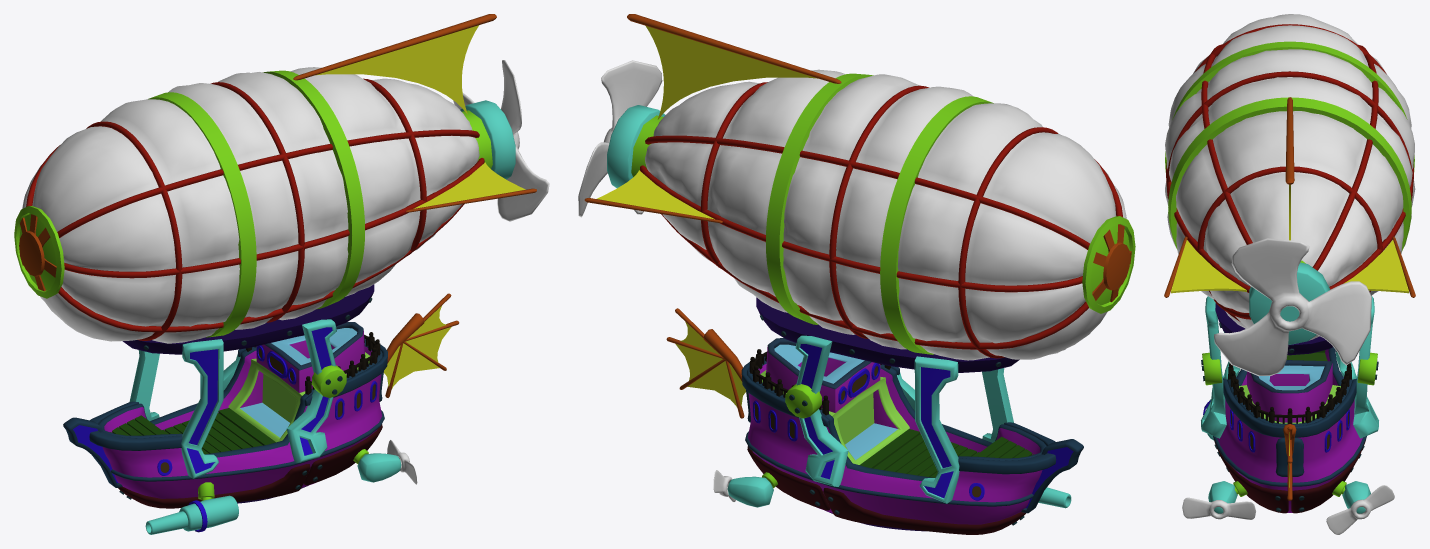
File: cloudstrife_zeppelin_04.fbx
3 renders of one model, left to right at view 1: azimuth 30°, elevation 25°; view 2: azimuth 150°, elevation 25°; view 3: azimuth 270°, elevation 25°, orthographic. The views are drawn at different scales.
Parts seen in each view (by area): view 1: wood, pillow_low, main_blade; view 2: wood, pillow_low, main_blade; view 3: wood, pillow_low, main_blade, rear_blade, rear_blade_2.
Boxes of the visible parts, x1,y1,x2,y2 form: wood: [14, 14, 536, 534]; pillow_low: [22, 67, 479, 343]; main_blade: [453, 60, 549, 221]; wood: [584, 14, 1135, 534]; pillow_low: [645, 69, 1126, 360]; main_blade: [578, 60, 662, 217]; wood: [1164, 24, 1415, 513]; pillow_low: [1165, 14, 1415, 340]; main_blade: [1214, 238, 1371, 376]; rear_blade: [1326, 485, 1394, 534]; rear_blade_2: [1182, 497, 1255, 519].
Size of the model in its own units: 841 by 702 by 379.
